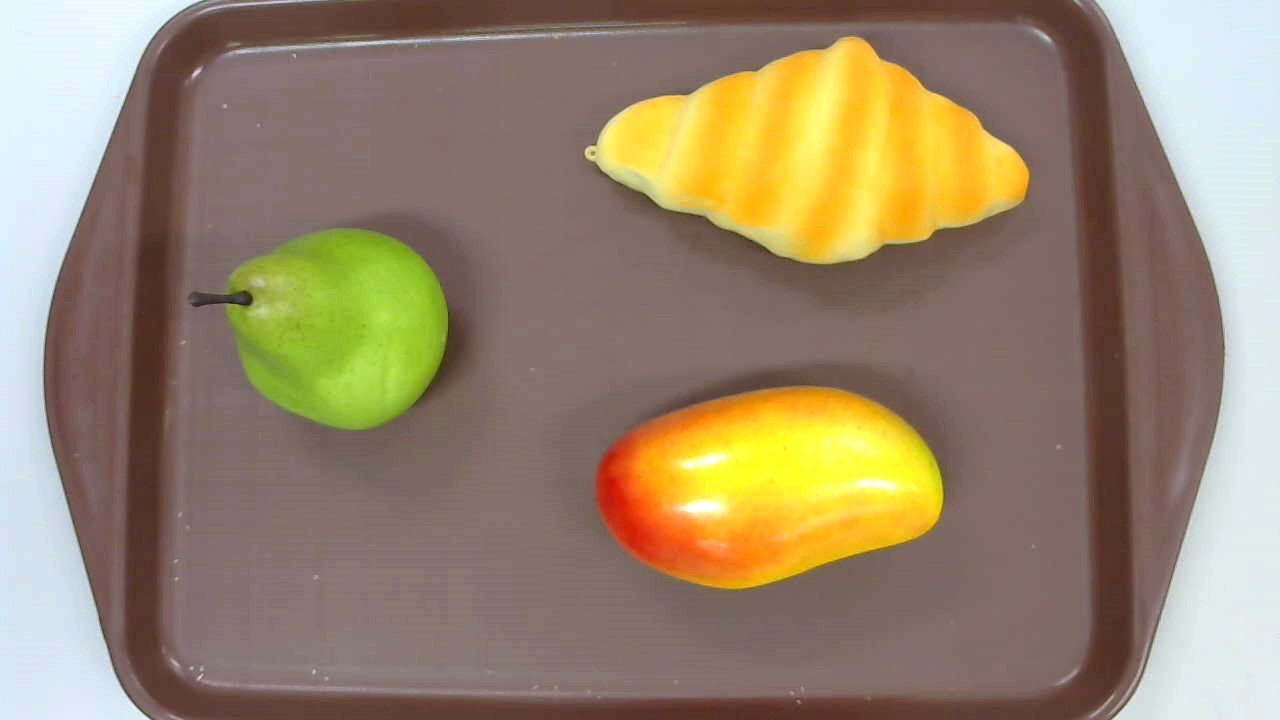croissant: (585, 36, 1029, 264)
green pear: (188, 228, 447, 433)
red mango: (594, 385, 944, 591)
